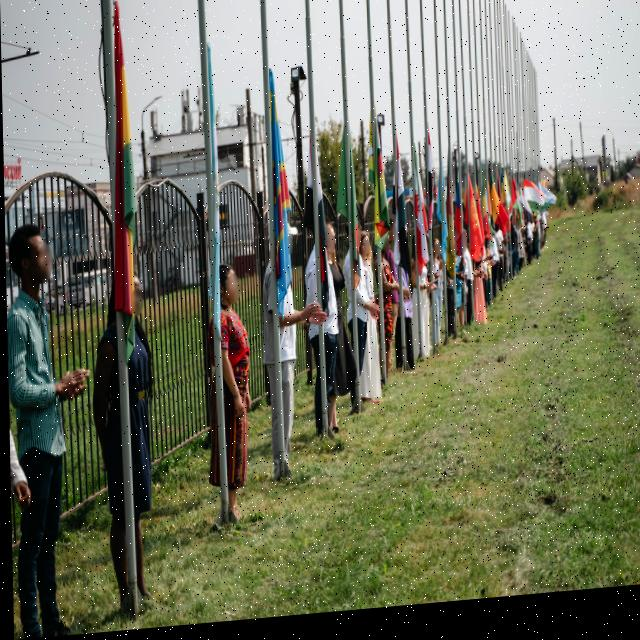Person: (4, 216, 74, 640), (99, 270, 166, 615), (199, 265, 258, 541), (263, 224, 306, 494), (305, 221, 337, 456), (352, 230, 379, 416), (321, 229, 343, 441), (359, 235, 384, 415), (377, 241, 394, 401), (428, 243, 444, 362), (460, 229, 475, 338), (508, 222, 516, 289), (516, 224, 523, 283)
